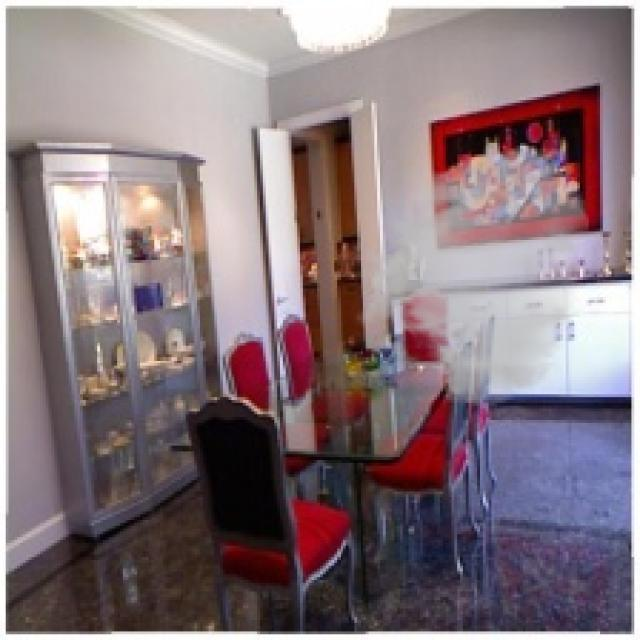Smoke: (354, 142, 592, 408)
